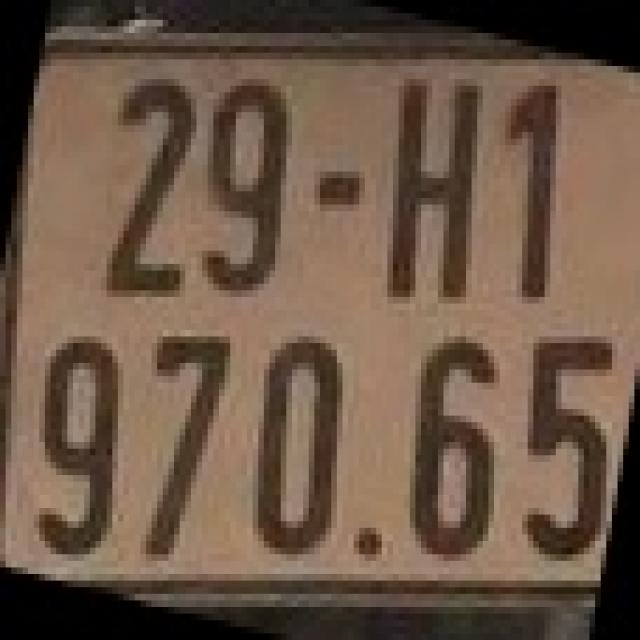0: (247, 323, 348, 561)
1: (500, 66, 572, 303)
2: (101, 66, 197, 297)
5: (522, 330, 612, 561)
6: (404, 330, 505, 561)
7: (140, 323, 236, 561)
9: (196, 72, 298, 297), (28, 330, 124, 561)
H: (376, 66, 494, 297)
